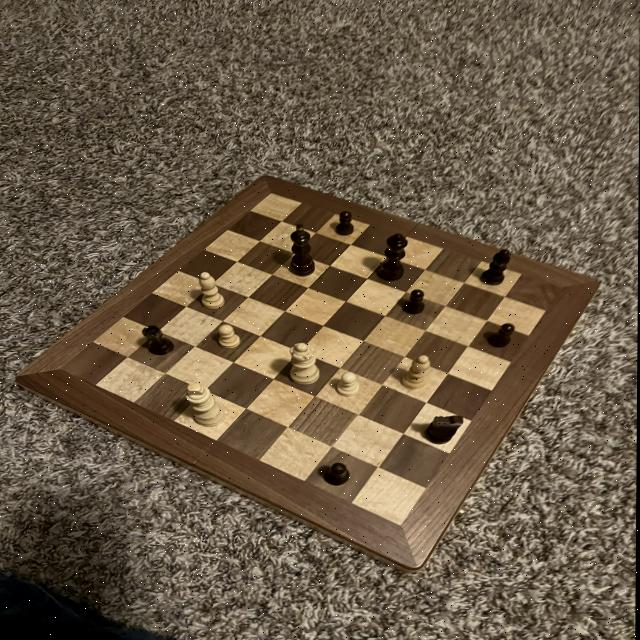bishop: (479, 246, 516, 290)
black-bishop: (285, 222, 319, 280)
black-king: (416, 412, 471, 448)
black-knight: (323, 460, 356, 491), (491, 318, 517, 352), (331, 206, 358, 238), (403, 286, 429, 318)
black-pawn: (374, 231, 412, 283)
black-queen: (140, 322, 177, 358)
black-rook: (398, 354, 435, 393), (196, 268, 228, 313)
white-bishop: (183, 379, 229, 431)
white-knight: (331, 370, 362, 401), (216, 322, 242, 350)
white-pawn: (284, 341, 327, 386)
